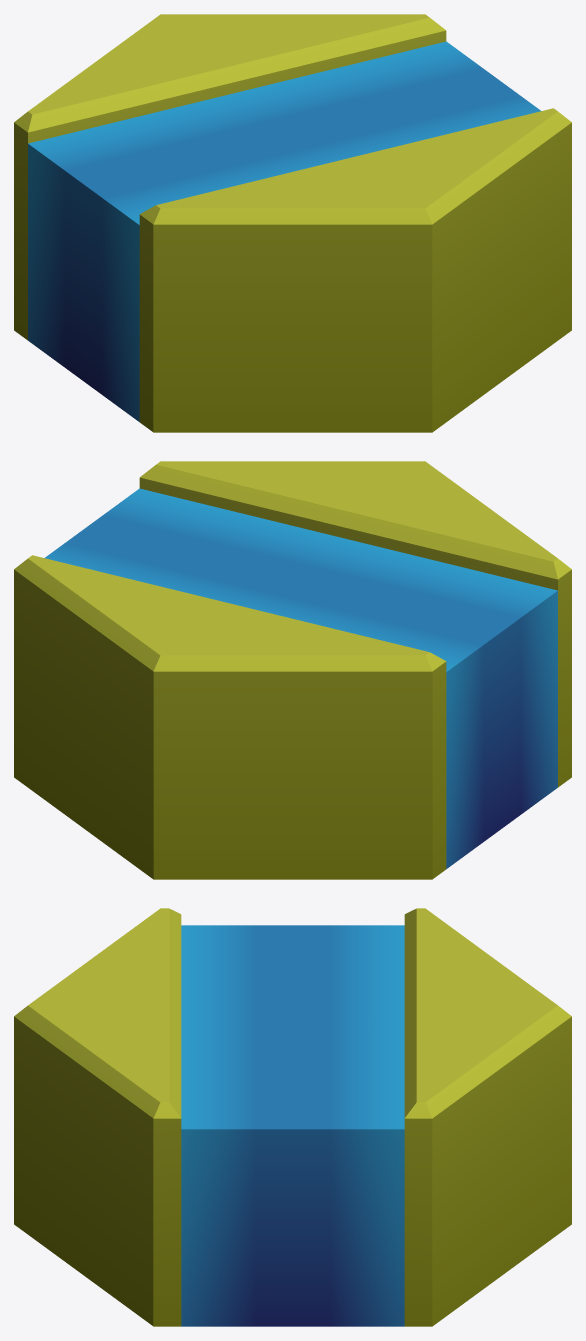
Rendered from hex_river_A.glb.
The picture shows the model from 3 angles, top to bottom: view 1: azimuth 30°, elevation 25°; view 2: azimuth 150°, elevation 25°; view 3: azimuth 270°, elevation 25°; orthographic projection.
Visible parts, largest first — view 1: hex_river_A; view 2: hex_river_A; view 3: hex_river_A.
Part boxes in pixels (left/top/right/bottom): hex_river_A: left=14, top=14, right=571, bottom=432; hex_river_A: left=14, top=461, right=571, bottom=879; hex_river_A: left=14, top=908, right=571, bottom=1326.
Size of the model in its own units: 2 by 1 by 2.31.
Materials: 1 (1 with a texture image).
